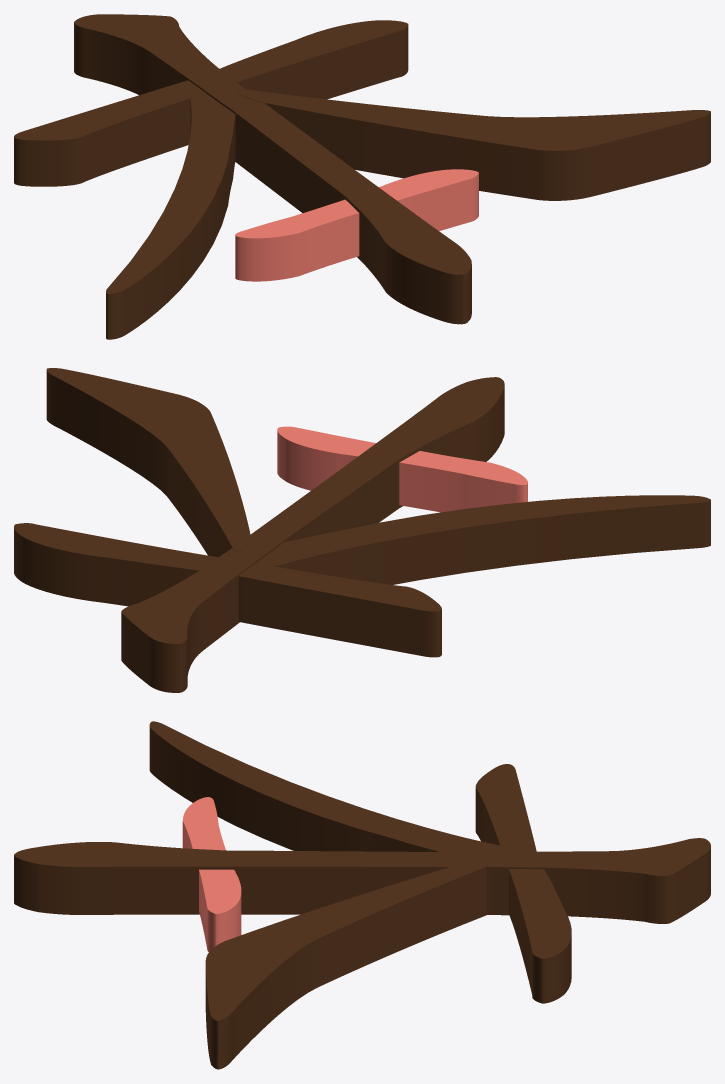
Rendered from hanzi168.fbx.
3 renders of one model, top to bottom at view 1: azimuth 30°, elevation 25°; view 2: azimuth 150°, elevation 25°; view 3: azimuth 270°, elevation 25°, orthographic. The views are drawn at different scales.
Visible parts, largest first — view 1: Curve.003, Curve.001, Curve, Curve.002, Curve.004; view 2: Curve.001, Curve.002, Curve, Curve.003, Curve.004; view 3: Curve.001, Curve.003, Curve.002, Curve, Curve.004.
Part boxes in pixels (bbox=[...]): Curve.003: bbox=[236, 89, 710, 200]; Curve.001: bbox=[74, 14, 471, 324]; Curve: bbox=[14, 20, 408, 186]; Curve.002: bbox=[106, 93, 235, 339]; Curve.004: bbox=[235, 169, 478, 281]; Curve.001: bbox=[121, 377, 504, 692]; Curve.002: bbox=[256, 495, 710, 584]; Curve: bbox=[14, 523, 441, 657]; Curve.003: bbox=[46, 368, 250, 557]; Curve.004: bbox=[277, 426, 527, 512]; Curve.001: bbox=[14, 838, 710, 923]; Curve.003: bbox=[205, 862, 490, 1069]; Curve.002: bbox=[149, 721, 502, 851]; Curve: bbox=[475, 764, 571, 1003]; Curve.004: bbox=[182, 797, 241, 951].
Bounding box in the file's own units: 26.32 × 25.7 × 1.98.
